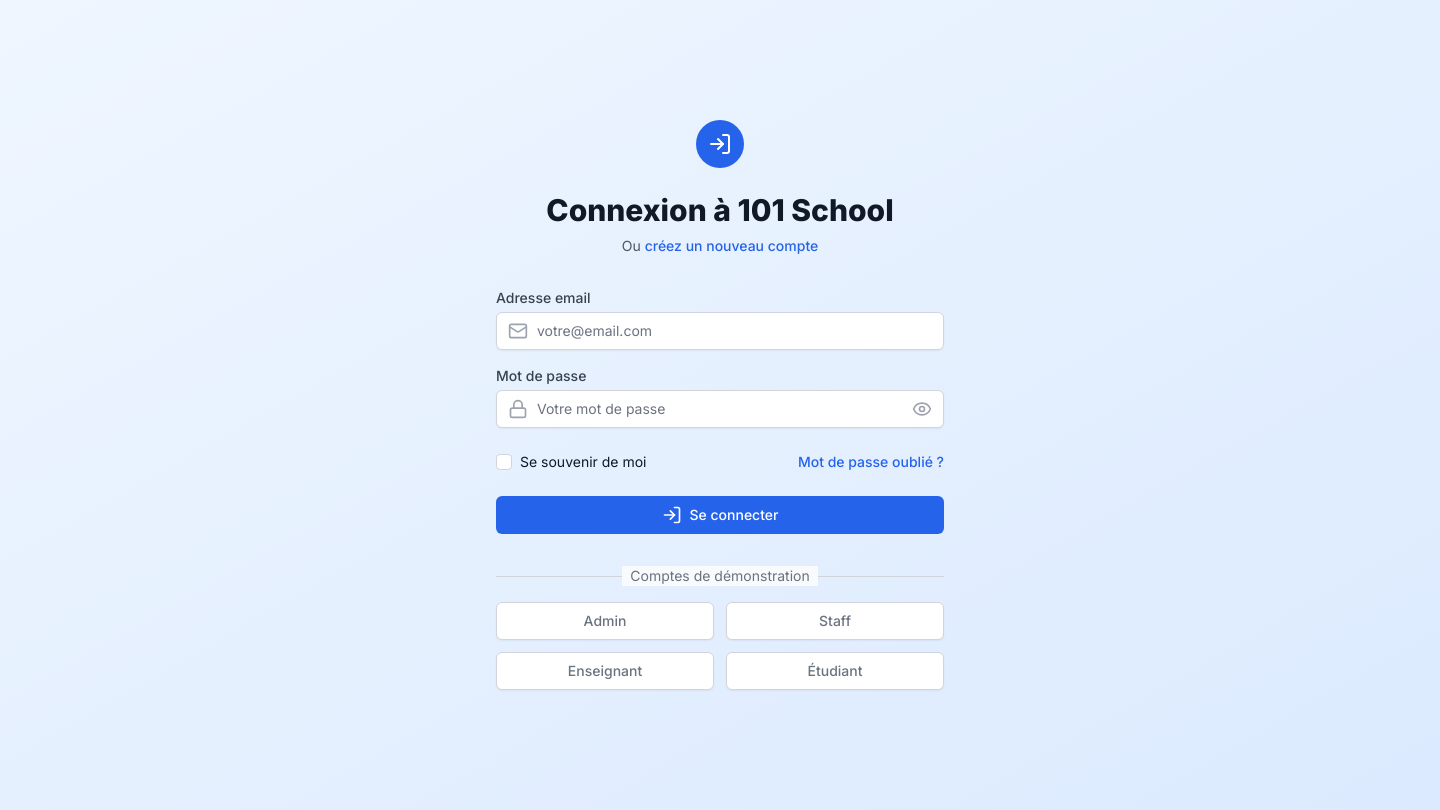
LoginForm › Form Validation › shows error when password is empty
Type "test@example.com" into the field with placeholder "votre@email.com" at point(720, 331), box [496,312,944,350]
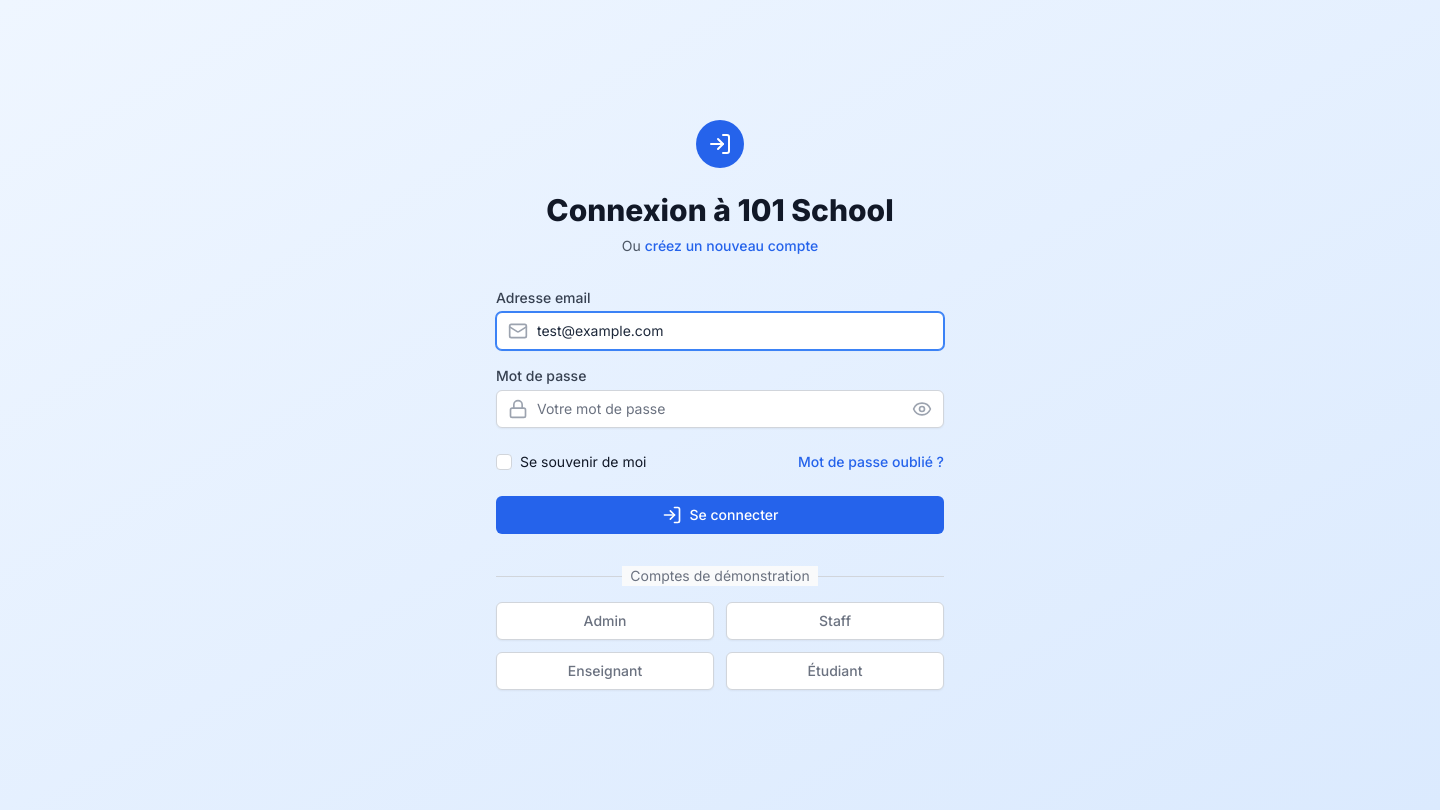
Click the button "Se connecter" at point(720, 515), box [496,496,944,534]
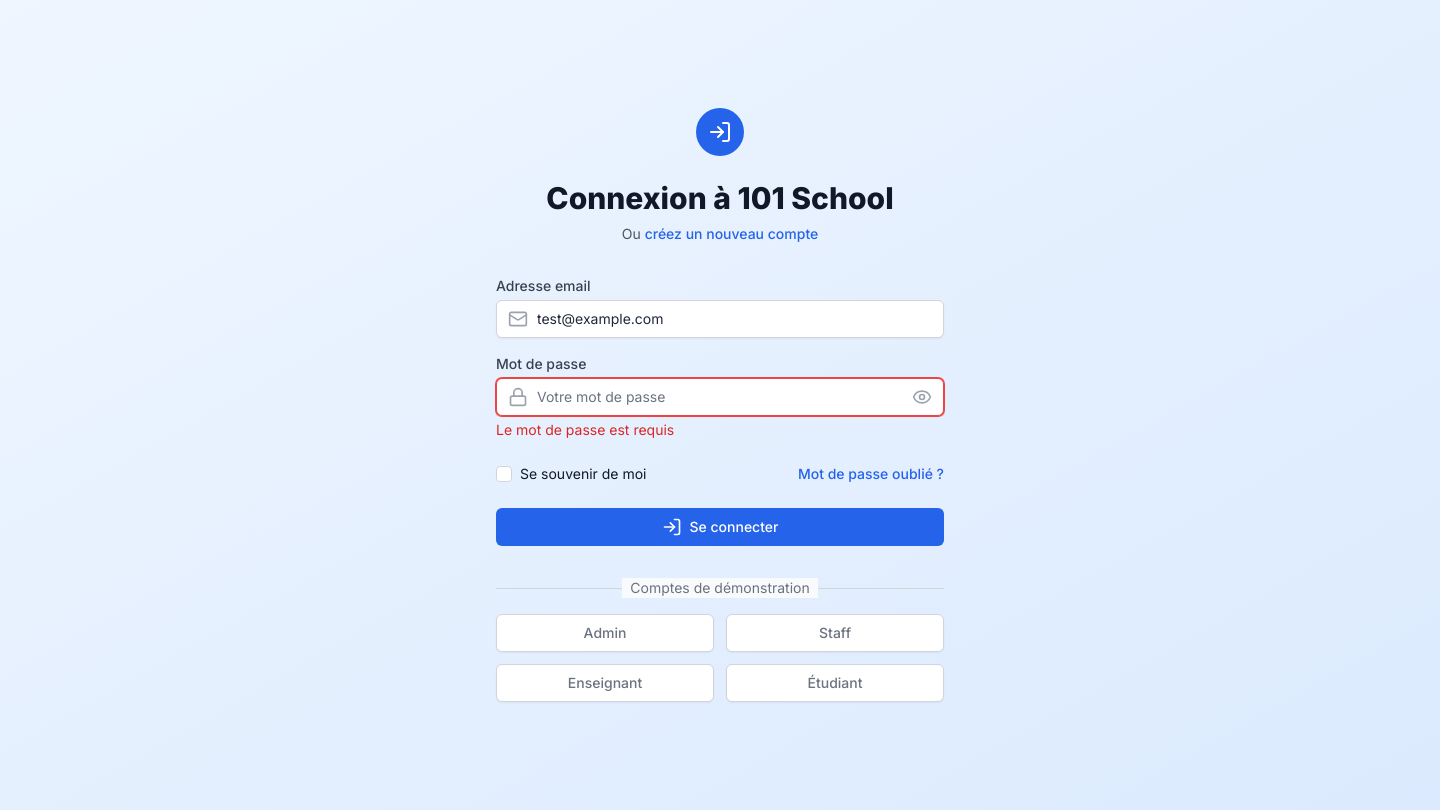
Check: the text "Le mot de passe est requis" is shown, box [496,421,674,438]
